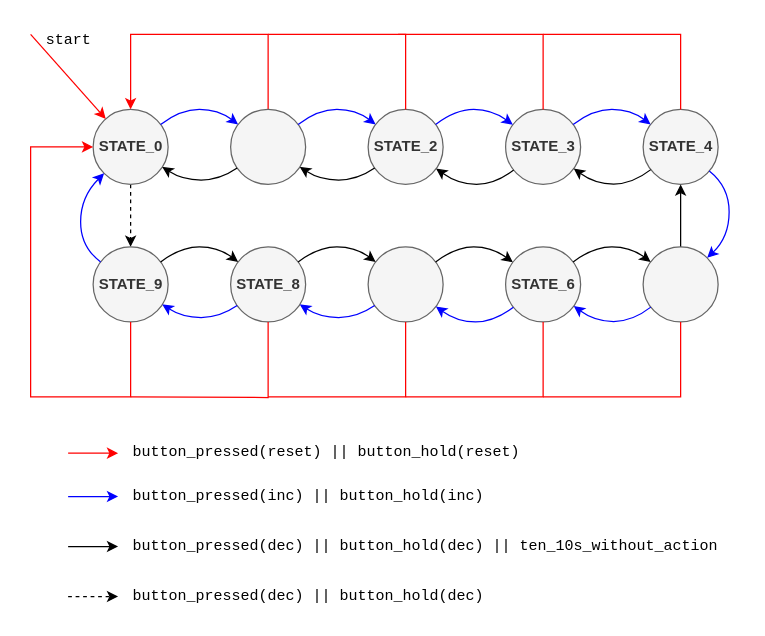
The diagram is 765 pixels wide and 636 high, and some of its shapes have lost their labels. The shapes that lost their labels are listed below. From the top down, each one's centre as x and y in pixels, then its label:
At [267,146]: "STATE_1".
At [405,284]: "STATE_7".
At [680,284]: "STATE_5".
